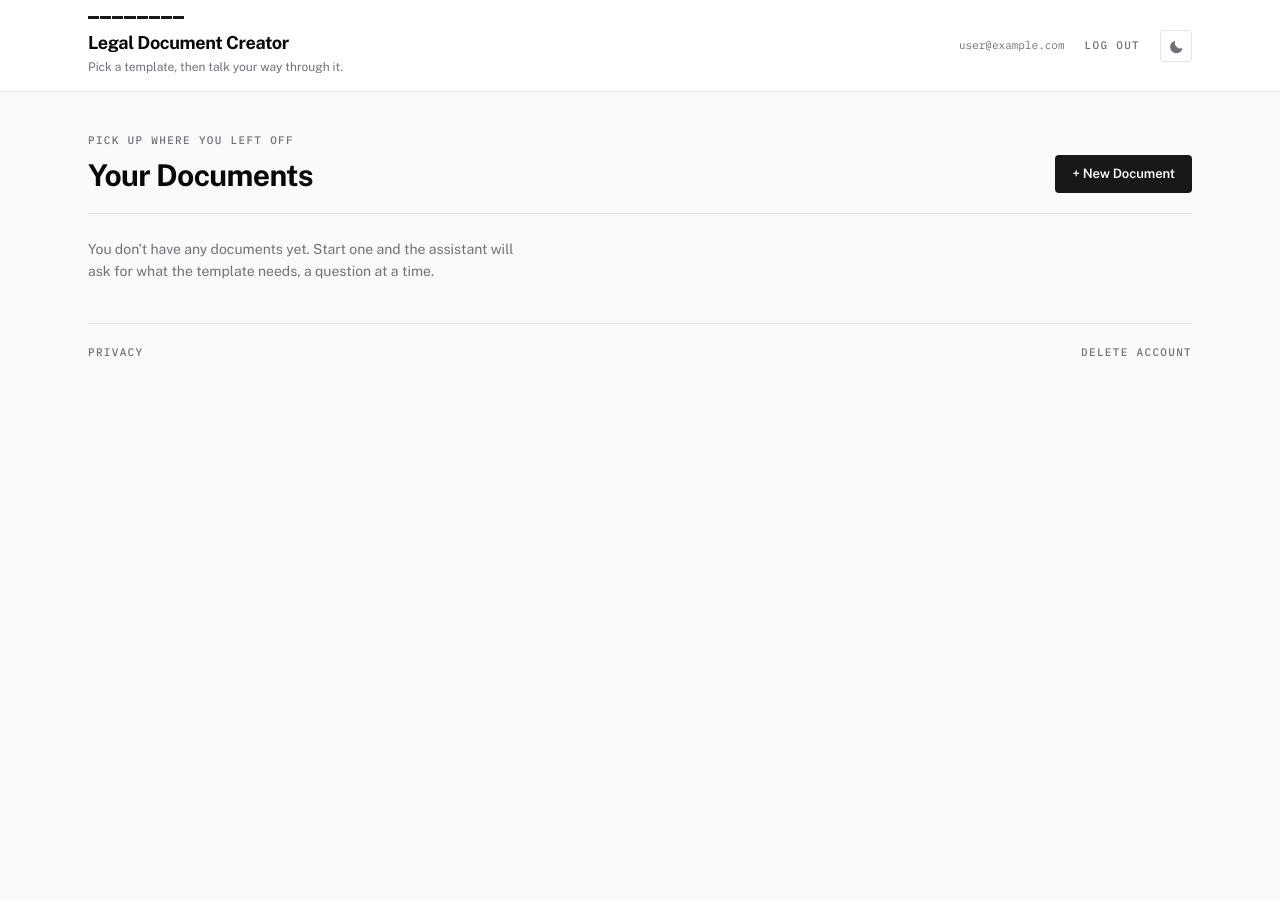
Test: Home (auth-gated multi-user flow) › logs out back to the example document
Click the button "Log out" at (1112, 46), box [1084,37,1140,54]
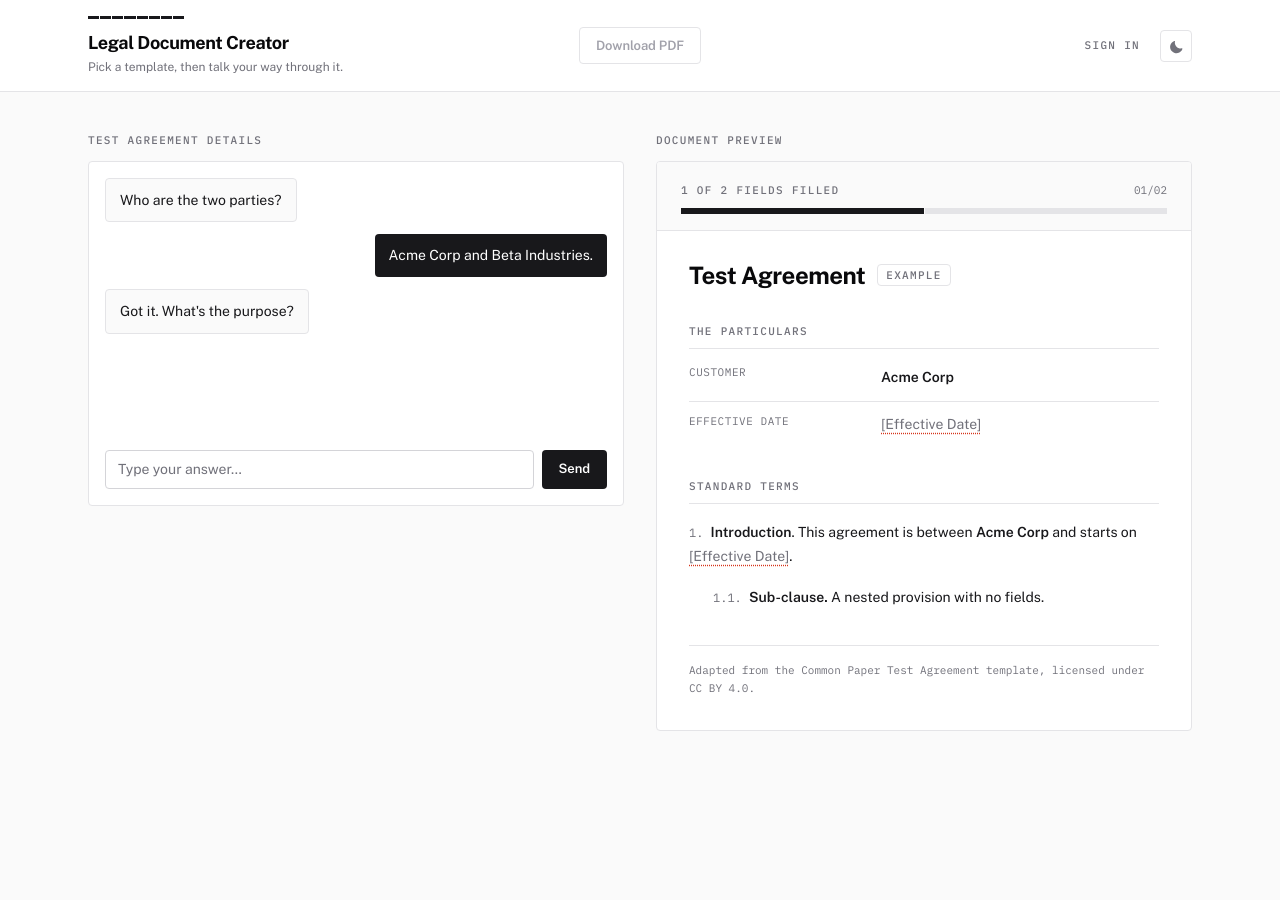
Expected: the text "Example" is shown, [877,264,951,286]
Expected: the link "Sign in" is shown, [1084,37,1140,54]
